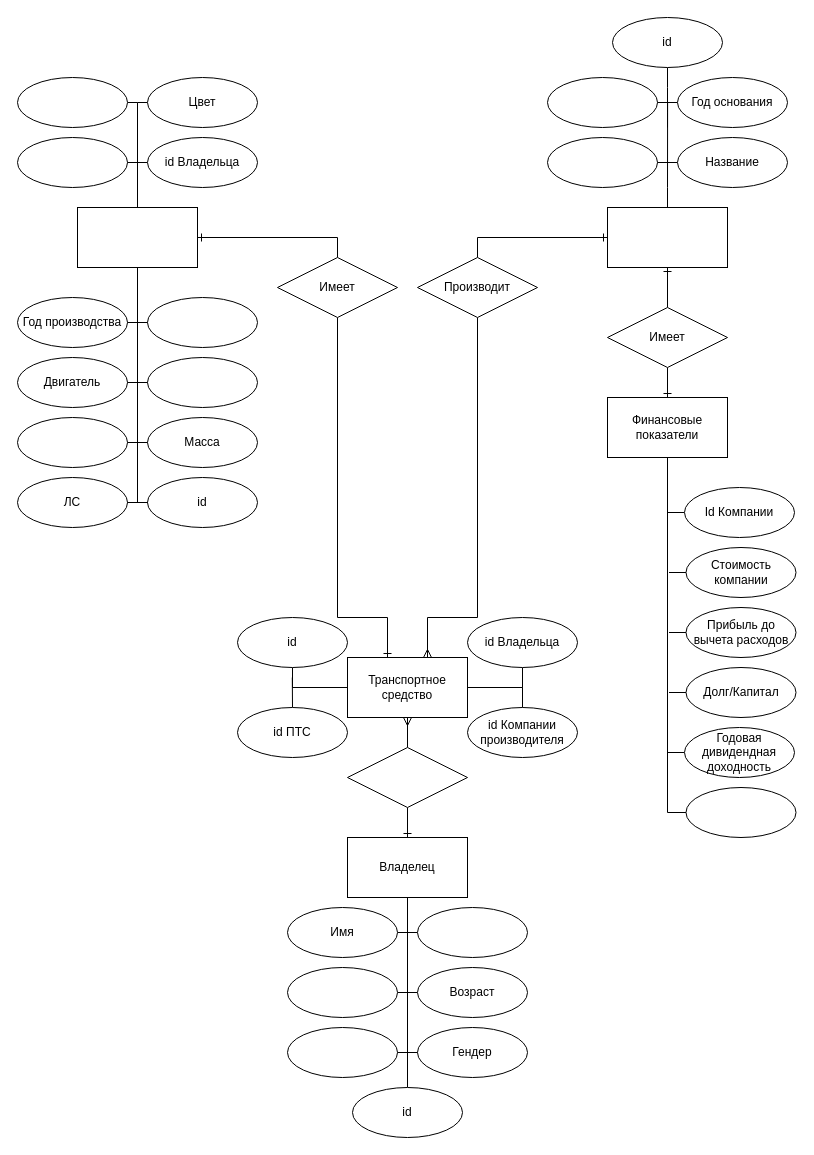
The diagram is 814 pixels wide and 1155 high, and some of its shapes have lost their labels. The centre of each missing label's shape, as x and y in pixels:
"Владеет" belongs at point (407, 777).
"Год закрытия" belongs at point (602, 102).
"Категория" belongs at point (202, 382).
"Компания производитель" belongs at point (667, 237).
"КПП" belongs at point (72, 442).
"Марка" belongs at point (72, 162).
"Месячный объем торгов" belongs at point (740, 812).
"Модель" belongs at point (202, 322).
"Отчество" belongs at point (342, 1052).
"Почта" belongs at point (472, 932).
"ПТС" belongs at point (137, 237).
"Страна" belongs at point (602, 162).
"Тип кузова" belongs at point (72, 102).
"Фамилия" belongs at point (342, 992).
